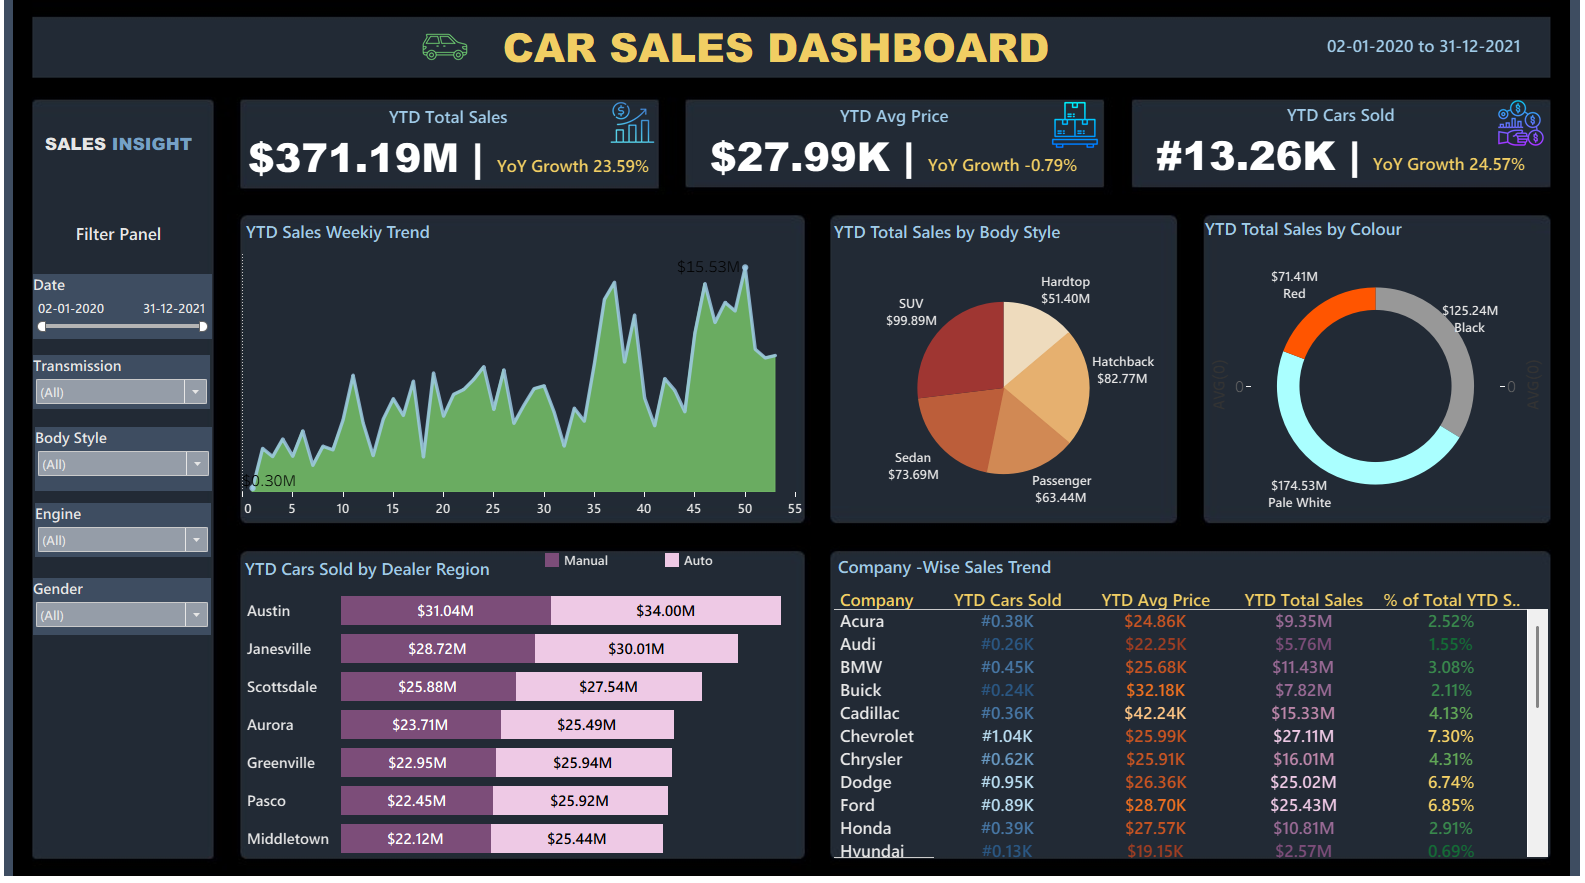

What the dashboard file says about the page in this screenshot:
{"tool":"tableau","page":{"name":"Dashboard 1","canvas":[1600,900],"ordinal":0},"visuals":[{"type":"image","param":"Image/Car Sales Background.jpg","box":[8,8,1584,884]},{"type":"text","box":[373,14,822,89]},{"type":"worksheet","title":"Date Rate","mark":"Automatic","box":[1307,29,250,58]},{"type":"image","param":"Image/Car_Icon_jSVJmi","box":[410,32,85,53]},{"type":"image","param":"Image/calendar_xxcHuc","box":[1287,33,46,49]},{"type":"image","param":"Image/Sales_Icon_VoSCLc","box":[614,110,52,48]},{"type":"image","param":"Image/Cars_Sold_Icon_QuKkkI","box":[1501,111,55,47]},{"type":"image","param":"Image/Avg_Price_Icon_GcgDxX","box":[1056,112,54,49]},{"type":"worksheet","title":"YTD Cars Sold","mark":"Automatic","box":[1141,112,416,87]},{"type":"worksheet","title":"YTD Total Sales","mark":"Automatic","box":[247,113,420,89]},{"type":"worksheet","title":"YTD Avg Price","mark":"Automatic","box":[694,113,417,87]},{"type":"text","box":[43,140,167,30]},{"type":"worksheet","title":"YTD Total Sales by Colour","mark":"Pie","rows":["Calculation_328199873684774929","Calculation_328199873684815891"],"box":[1209,225,349,308]},{"type":"worksheet","title":"YTD Sales Weekiy Trend","mark":"Area","rows":["Calculation_328199873644748800","Calculation_328199873644748800"],"cols":["Date"],"box":[250,228,563,306]},{"type":"worksheet","title":"YTD Total Sales by Body Style","mark":"Pie","box":[838,228,347,306]},{"type":"text","box":[43,230,167,30]},{"type":"filter","title":"YTD Sales Weekiy Trend","param":"[federated.1exfuml1hzd3tg16i9d5l0a1h65l].[none:Date:qk]","box":[41,286,179,65]},{"type":"filter","title":"YTD Sales Weekiy Trend","param":"[federated.1exfuml1hzd3tg16i9d5l0a1h65l].[none:Transmission:nk]","box":[41,367,177,54]},{"type":"filter","title":"YTD Sales Weekiy Trend","param":"[federated.1exfuml1hzd3tg16i9d5l0a1h65l].[none:Body Style:nk]","box":[43,439,177,64]},{"type":"filter","title":"YTD Sales Weekiy Trend","param":"[federated.1exfuml1hzd3tg16i9d5l0a1h65l].[none:Engine:nk]","box":[43,515,176,54]},{"type":"legend","title":"YTD Cars Sold by Dealer Region","param":"[federated.1exfuml1hzd3tg16i9d5l0a1h65l].[none:Transmission:nk]","box":[550,562,261,41]},{"type":"worksheet","title":"Company -Wise Sales Trend","mark":"Automatic","rows":["Company"],"box":[842,563,714,307]},{"type":"worksheet","title":"YTD Cars Sold by Dealer Region","mark":"Automatic","rows":["Dealer_Region"],"cols":["Calculation_328199873644748800"],"box":[249,565,562,304]},{"type":"filter","title":"YTD Sales Weekiy Trend","param":"[federated.1exfuml1hzd3tg16i9d5l0a1h65l].[none:Gender:nk]","box":[41,590,178,57]}]}

Visuals, with their boxes in screenshot pixels (x1, y1, x2, y2), scaled from the page's 1600x900 canvas onto the 1585x883 screenshot:
image: x1=8, y1=8, x2=1577, y2=875
text: x1=370, y1=14, x2=1184, y2=101
"Date Rate" worksheet: x1=1295, y1=28, x2=1542, y2=85
image: x1=406, y1=31, x2=490, y2=83
image: x1=1275, y1=32, x2=1321, y2=80
image: x1=608, y1=108, x2=660, y2=155
image: x1=1487, y1=109, x2=1541, y2=155
image: x1=1046, y1=110, x2=1100, y2=158
"YTD Cars Sold" worksheet: x1=1130, y1=110, x2=1542, y2=195
"YTD Total Sales" worksheet: x1=245, y1=111, x2=661, y2=198
"YTD Avg Price" worksheet: x1=687, y1=111, x2=1101, y2=196
text: x1=43, y1=137, x2=208, y2=167
"YTD Total Sales by Colour" worksheet (Pie marks): x1=1198, y1=221, x2=1543, y2=523
"YTD Sales Weekiy Trend" worksheet (Area marks): x1=248, y1=224, x2=805, y2=524
"YTD Total Sales by Body Style" worksheet (Pie marks): x1=830, y1=224, x2=1174, y2=524
text: x1=43, y1=226, x2=208, y2=255
"YTD Sales Weekiy Trend" filter: x1=41, y1=281, x2=218, y2=344
"YTD Sales Weekiy Trend" filter: x1=41, y1=360, x2=216, y2=413
"YTD Sales Weekiy Trend" filter: x1=43, y1=431, x2=218, y2=493
"YTD Sales Weekiy Trend" filter: x1=43, y1=505, x2=217, y2=558
"YTD Cars Sold by Dealer Region" legend: x1=545, y1=551, x2=803, y2=592
"Company -Wise Sales Trend" worksheet: x1=834, y1=552, x2=1541, y2=854
"YTD Cars Sold by Dealer Region" worksheet: x1=247, y1=554, x2=803, y2=853
"YTD Sales Weekiy Trend" filter: x1=41, y1=579, x2=217, y2=635
